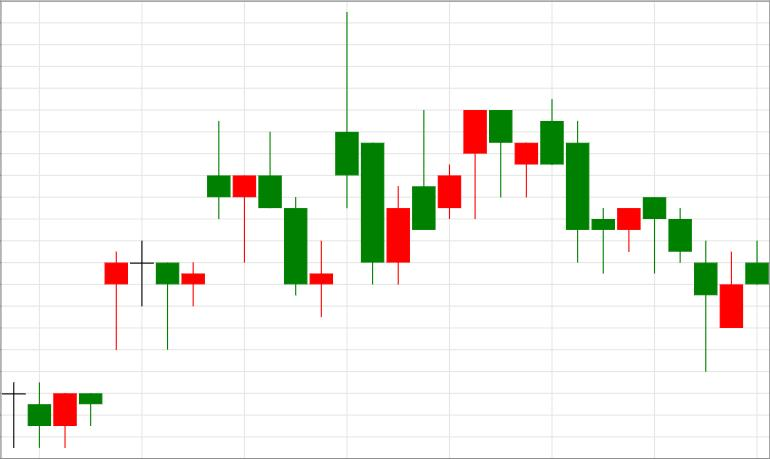hanging_man_fall: (386, 109, 513, 285), (386, 109, 488, 285)
